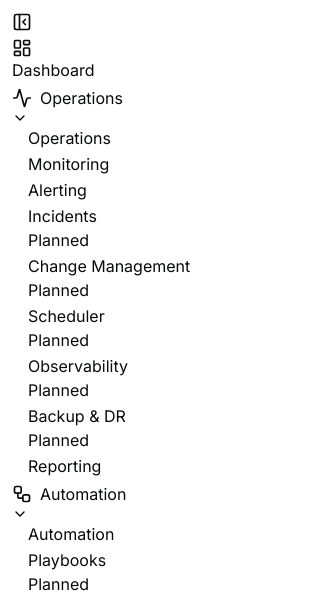
Scenario: PrimaryNavigation › collapses a group's sub-items when its header is clicked
Step 1. Click the button "Operations" → click(68, 106), box top-left (12, 86), bottom-right (123, 126)
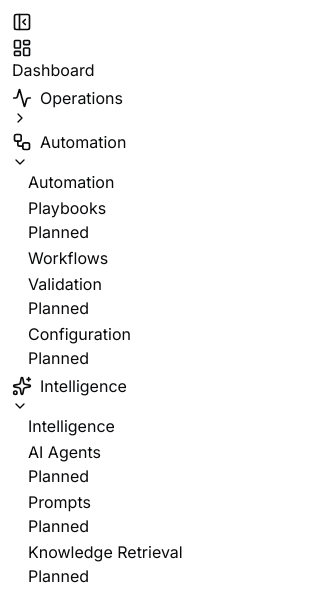
expect the button "Operations" is collapsed: met, box top-left (12, 86), bottom-right (123, 126)
expect the text "Incidents" is gone: met
